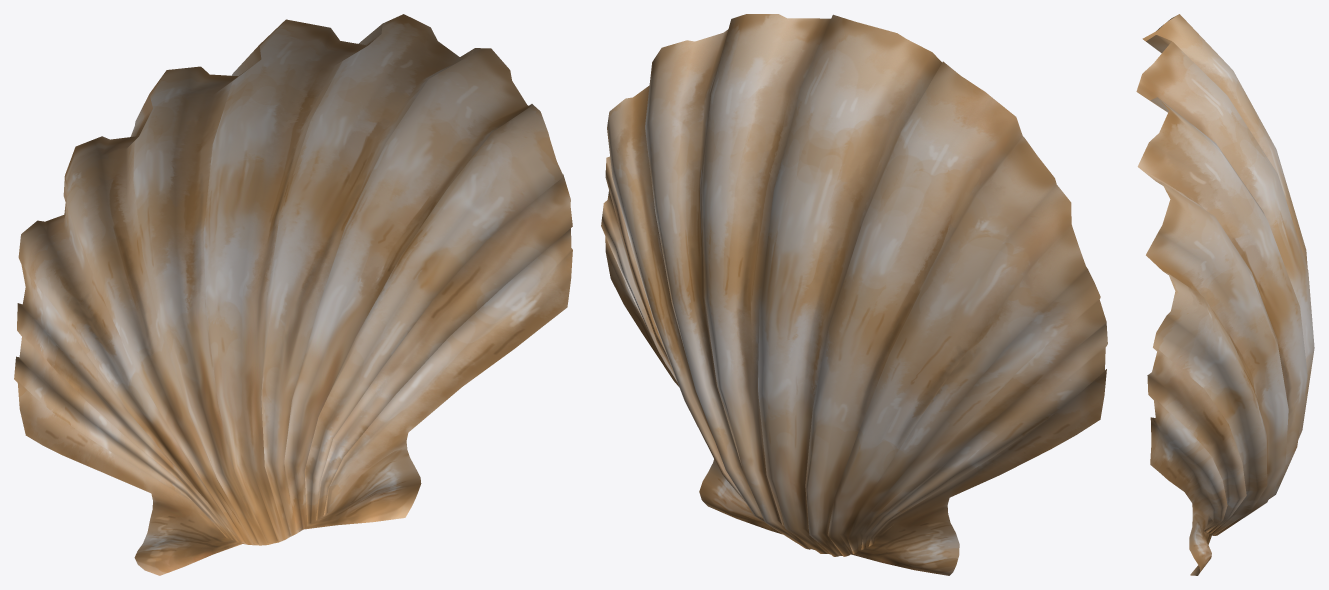
The model's file is concha.obj.
3 views of the same model, side by side, from view 1: azimuth 30°, elevation 25°; view 2: azimuth 150°, elevation 25°; view 3: azimuth 270°, elevation 25° (orthographic). The views are drawn at different scales.
Parts seen in each view (by area): view 1: seashell_seashell_msh; view 2: seashell_seashell_msh; view 3: seashell_seashell_msh.
Part boxes in pixels (x1,y1,x2,y2): seashell_seashell_msh: [14, 14, 572, 575]; seashell_seashell_msh: [601, 14, 1107, 575]; seashell_seashell_msh: [1136, 14, 1314, 575].
Bounding box in the file's own units: 46.51 × 44.47 × 14.85.
1 material, 1 textured.
